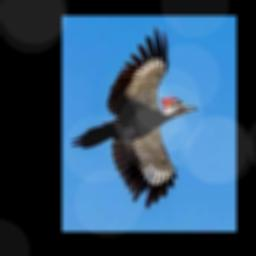Woodpecker: (70, 25, 198, 208)
